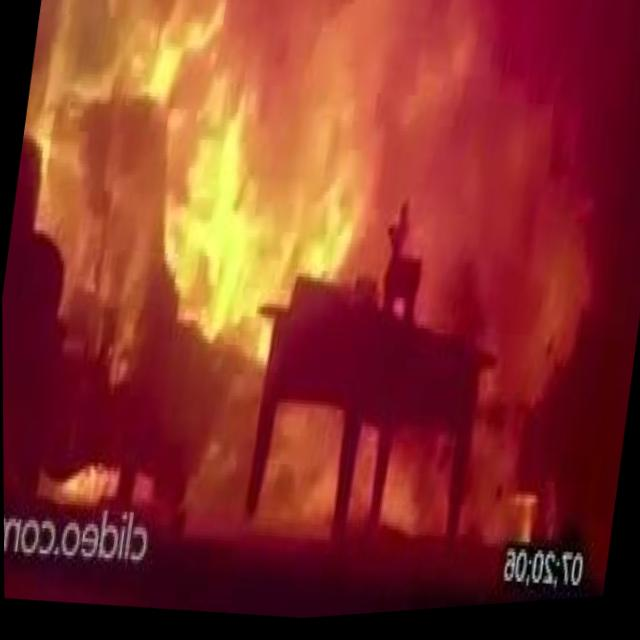fire: (142, 26, 312, 384), (279, 5, 413, 290), (459, 257, 585, 554), (32, 0, 231, 156), (177, 375, 263, 545), (257, 403, 342, 549), (377, 434, 451, 550), (30, 451, 121, 518), (347, 431, 379, 534)
